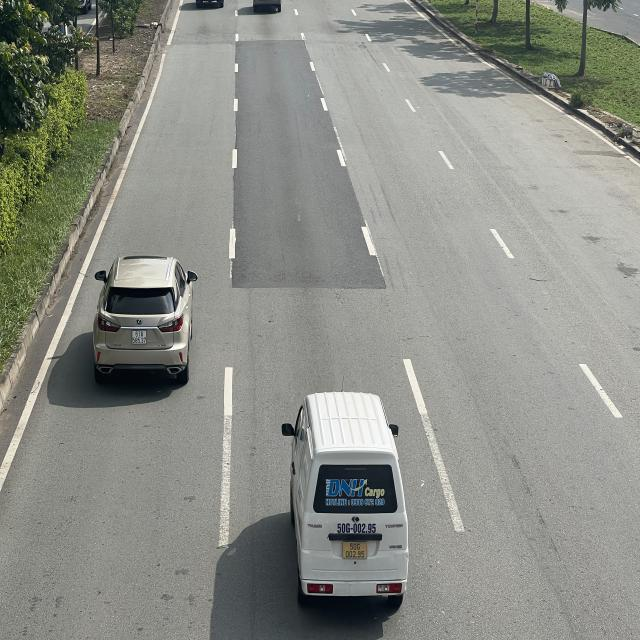car: (92, 252, 198, 382)
van: (280, 394, 408, 610)
